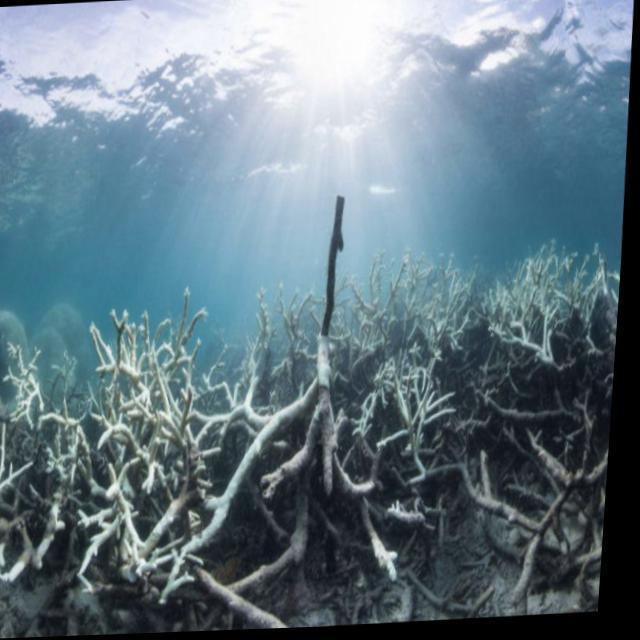Dead Coral: (0, 249, 626, 640)
